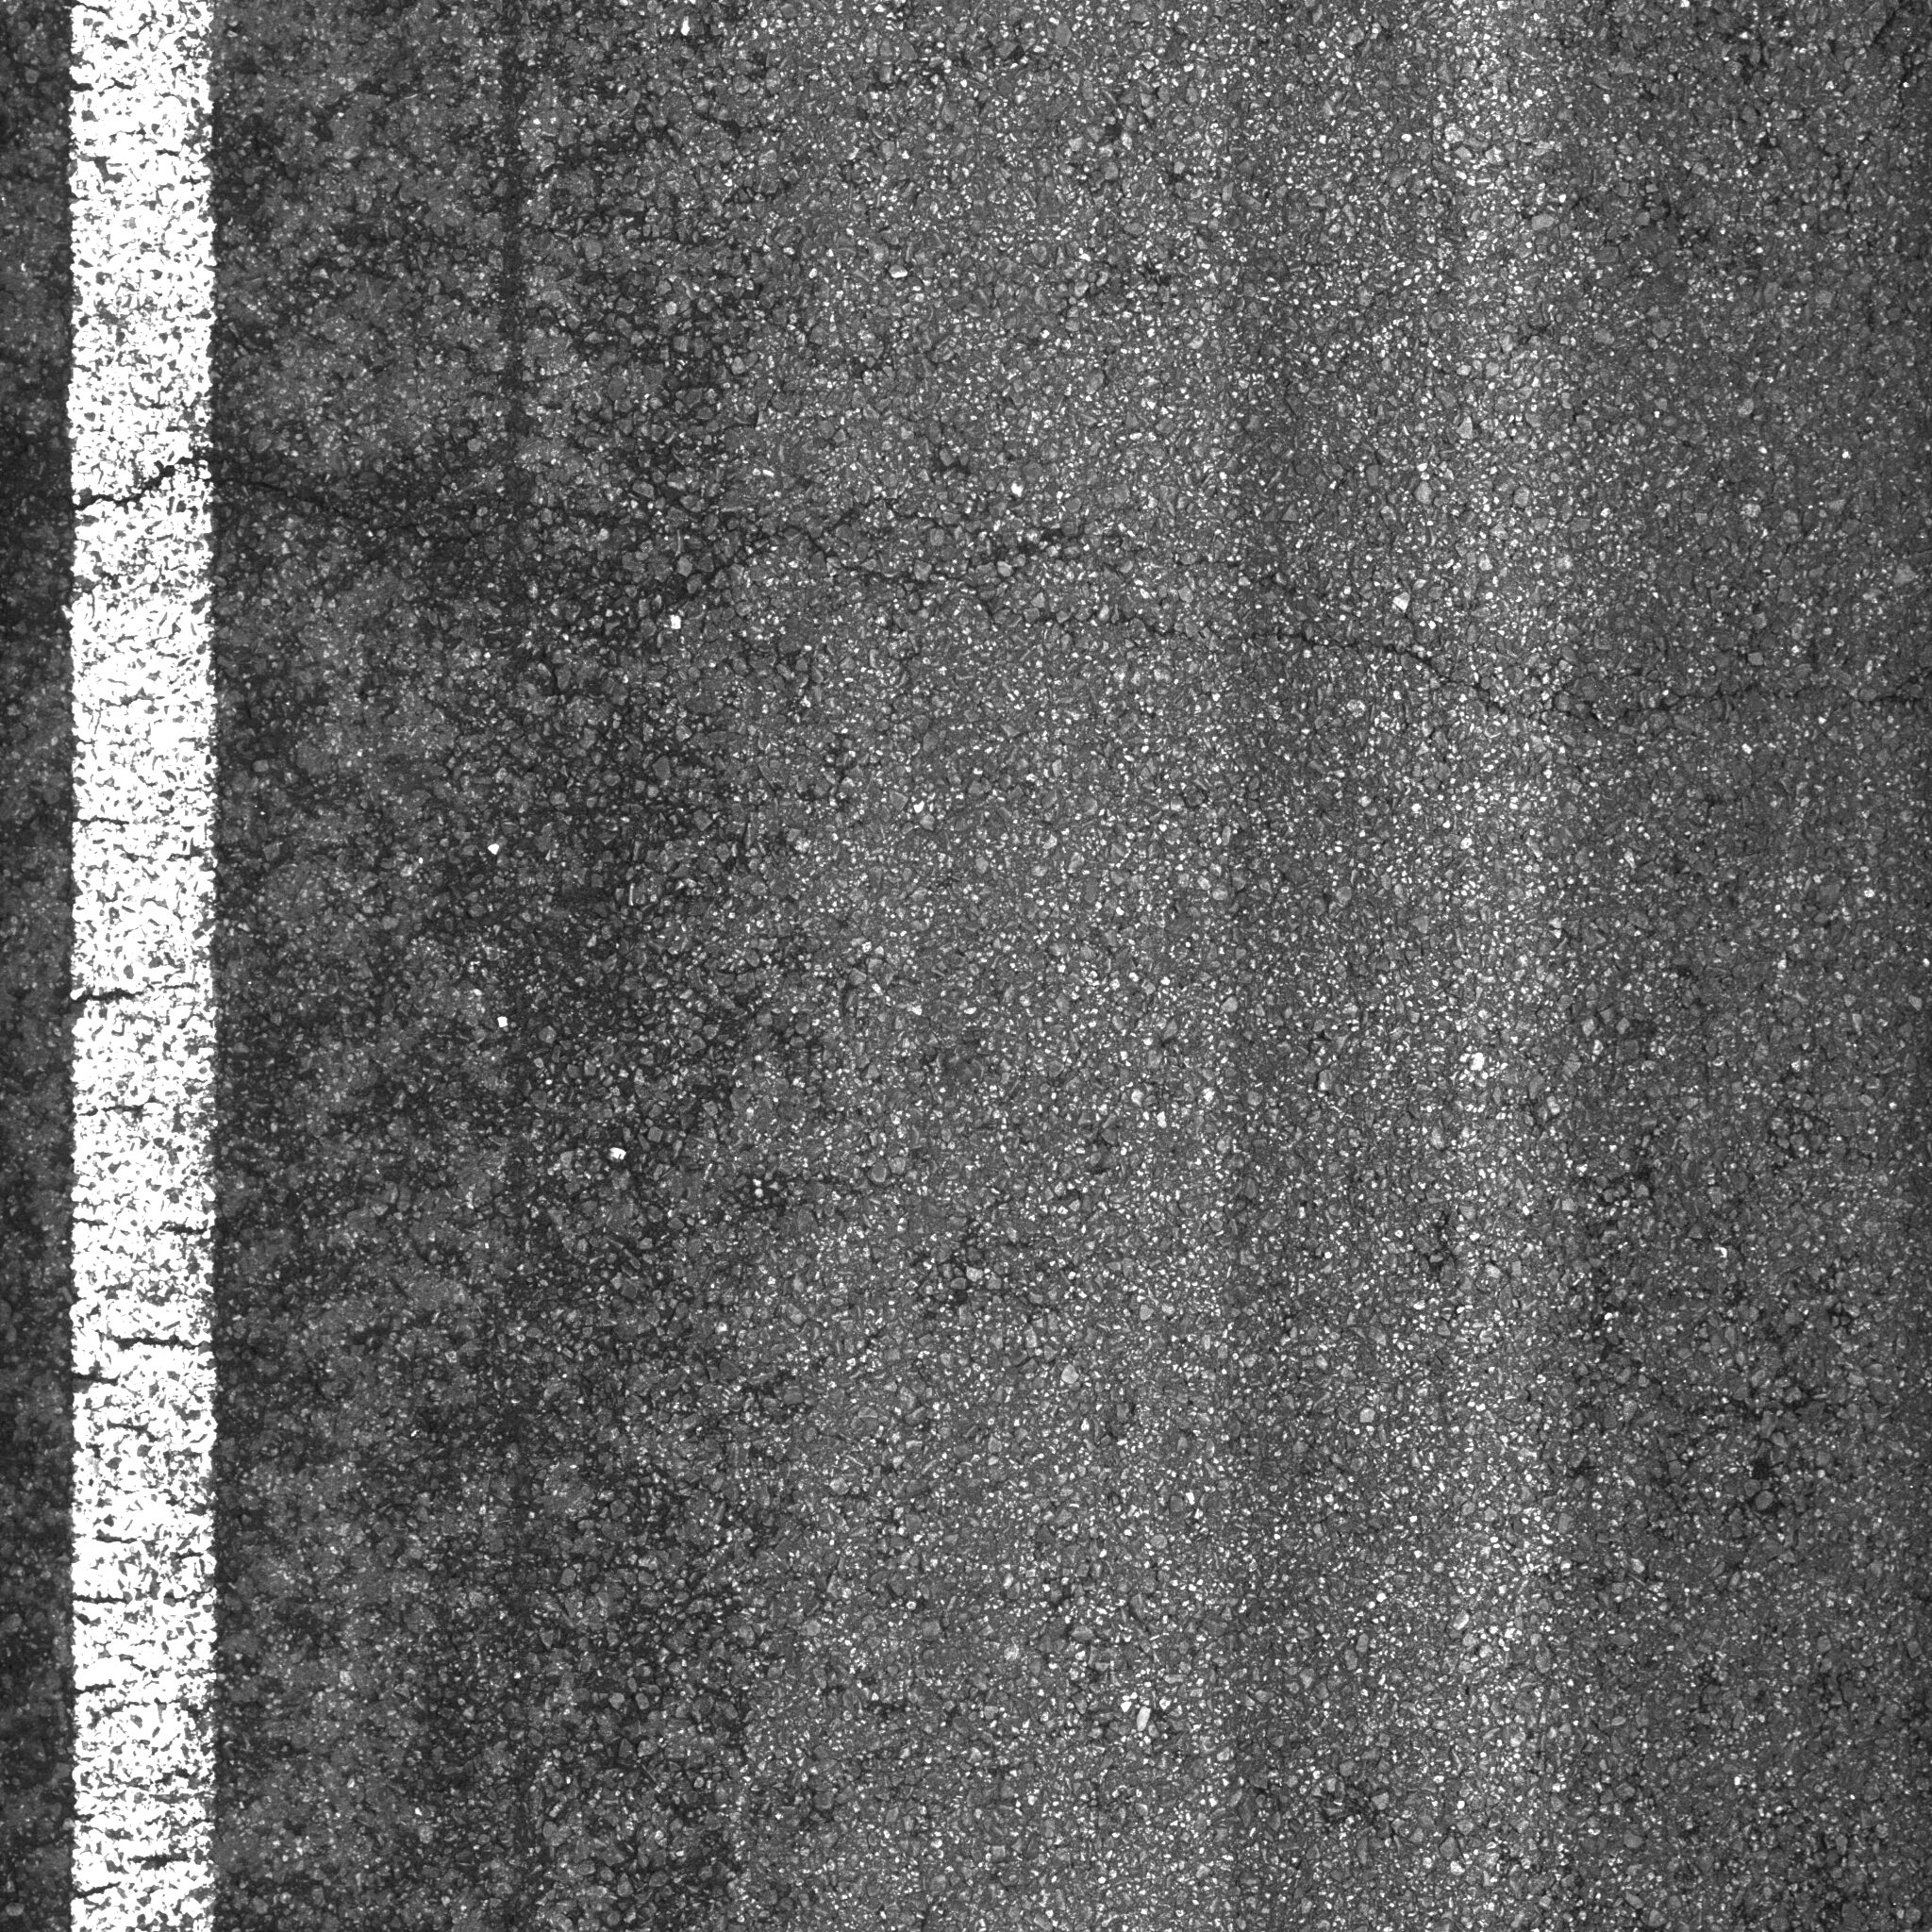transeverse: (9, 433, 1925, 755)
